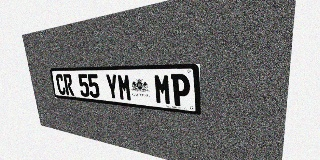5: (87, 74, 100, 98), (78, 74, 90, 97)
C: (55, 74, 66, 95)
M: (154, 74, 172, 105), (117, 74, 132, 101)
P: (171, 74, 190, 107)
R: (63, 74, 74, 96)
Y: (105, 74, 119, 100)
